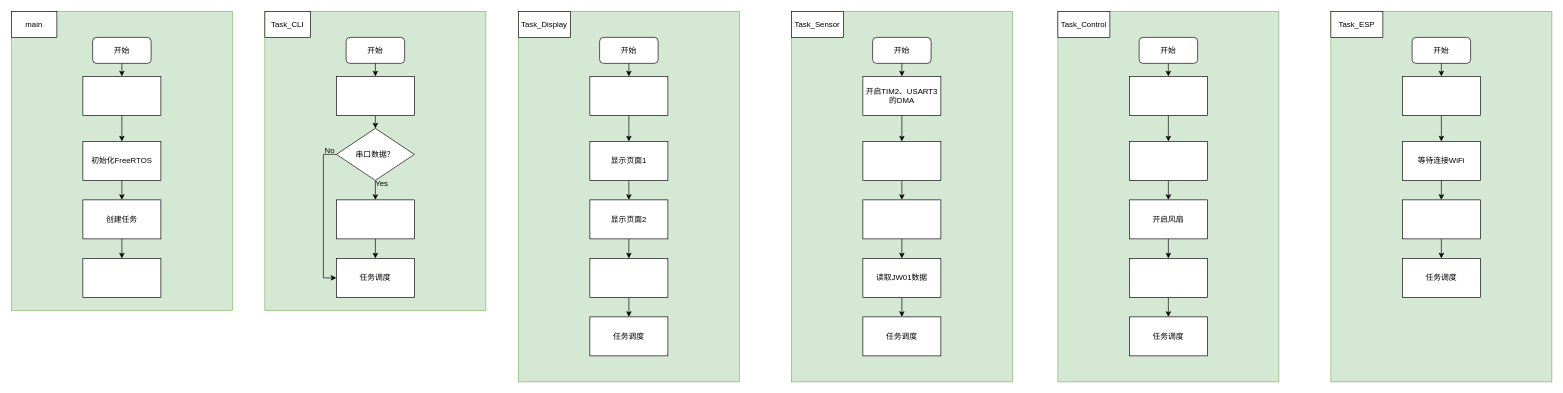
Image size: 1563x393. Some labels were removed from this diagram. Each missing label, with the centre of its shape:
"串口发送WiFi信息" goes at (1441,95).
"初始化屏幕" goes at (628,95).
"初始化时钟、外设等" goes at (121,95).
"发送传感器数据包" goes at (1441,219).
"复位引脚" goes at (1168,95).
"开启水泵" goes at (1168,277).
"开启调度" goes at (121,277).
"显示页面3" goes at (628,277).
"根据阈值判断" goes at (1168,160).
"注册初始命令行" goes at (375,95).
"解析处理" goes at (375,219).
"读取DHT11数据" goes at (901,219).
"读取模拟量" goes at (901,160).
